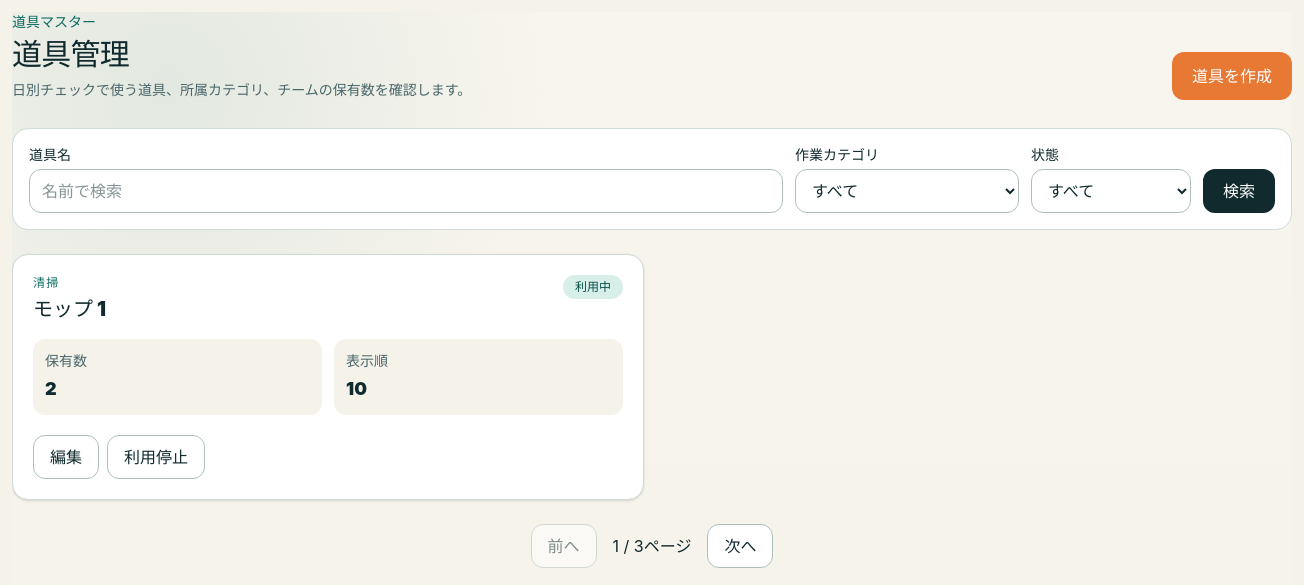
ToolsView › ページ移動後に一覧先頭へ戻し、移動前の成功通知を残さない
Click the button "次へ" at (740, 546), box [707,524,773,568]
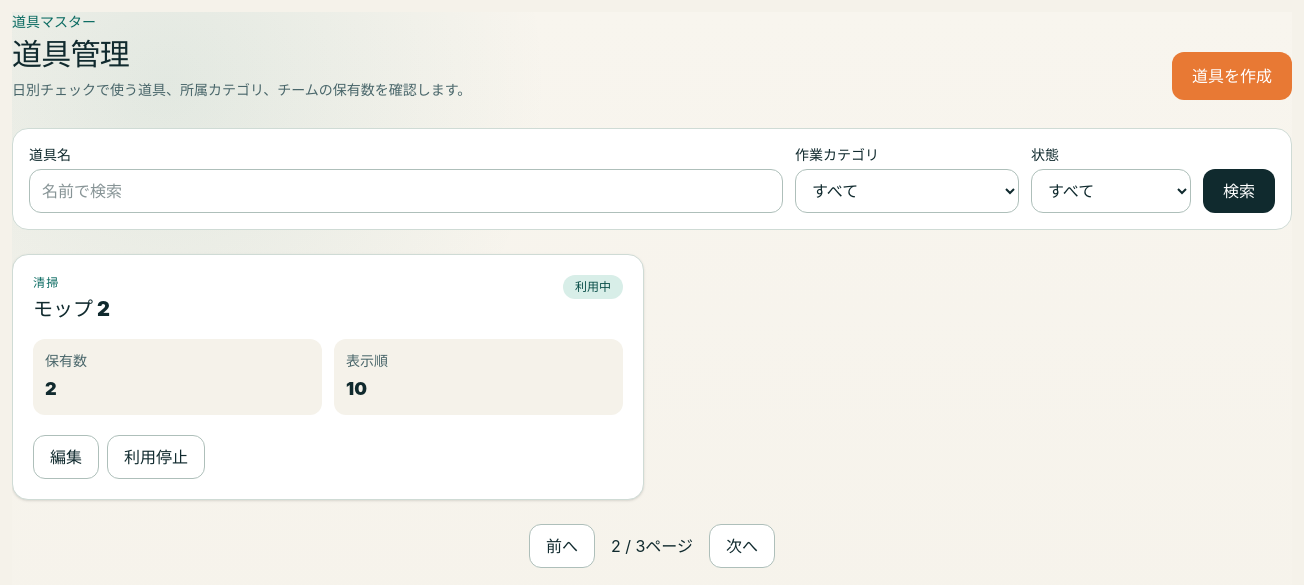
Now the text "2 / 3ページ" is shown, box [611,534,693,558]
Now the heading "モップ 2" is shown, box [33,295,110,323]
